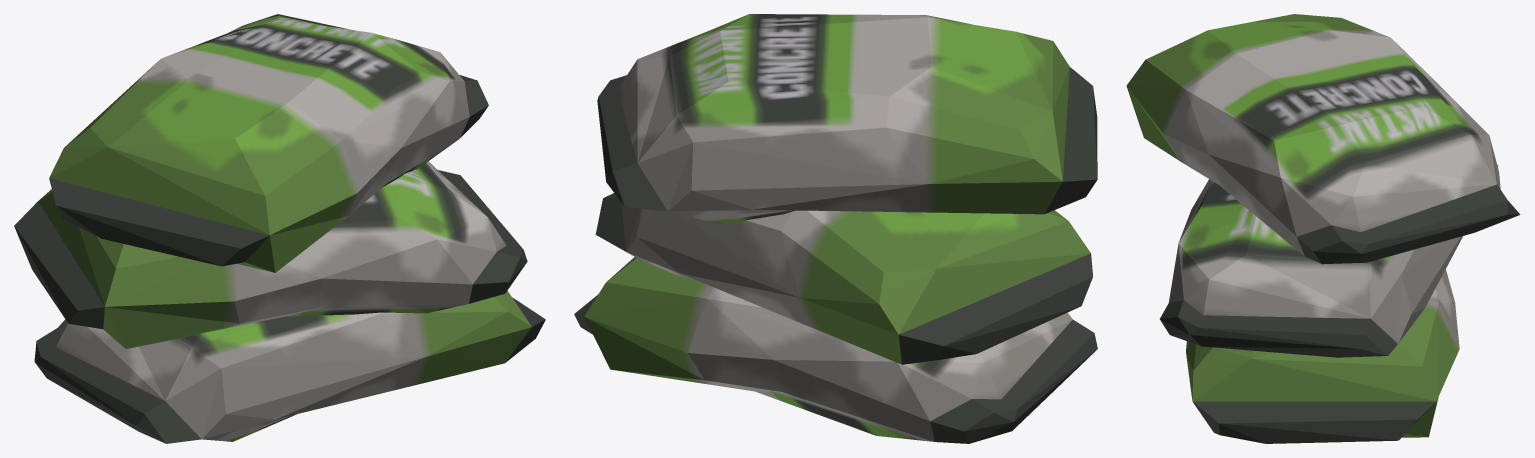
File: SM_Prop_ConcreteBag_Stack_01.fbx
3 renders of one model, left to right at view 1: azimuth 30°, elevation 25°; view 2: azimuth 150°, elevation 25°; view 3: azimuth 270°, elevation 25°, orthographic. The views are drawn at different scales.
Visible parts, largest first — view 1: SM_Prop_ConcreteBag_Stack_01; view 2: SM_Prop_ConcreteBag_Stack_01; view 3: SM_Prop_ConcreteBag_Stack_01.
Boxes of the visible parts, left/top/right/bottom form: SM_Prop_ConcreteBag_Stack_01: left=14, top=14, right=545, bottom=443; SM_Prop_ConcreteBag_Stack_01: left=574, top=14, right=1097, bottom=443; SM_Prop_ConcreteBag_Stack_01: left=1126, top=14, right=1520, bottom=443.
Bounding box in the file's own units: 85.84 × 59.72 × 69.82.
